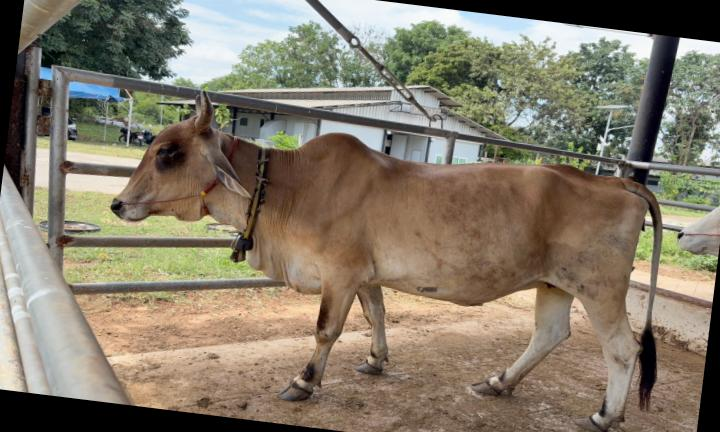Brahman: (110, 91, 661, 432)
